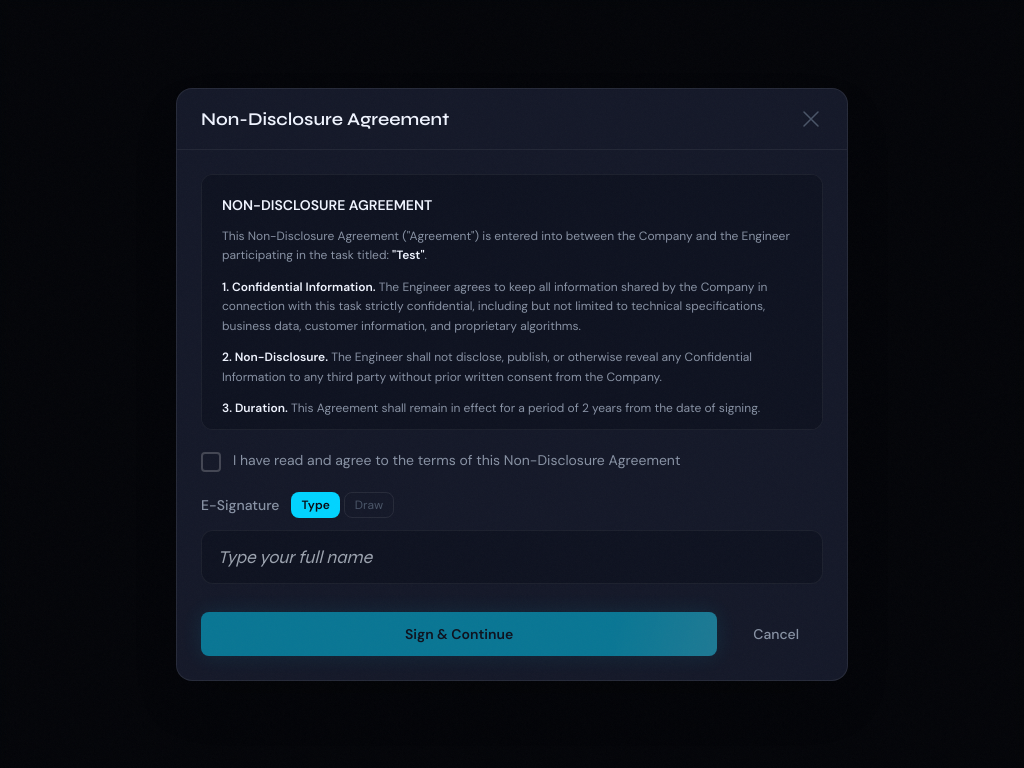
it: NDAModal — signature canvas (touch device support) › switches to draw mode when Draw button is clicked
Click the button "Draw": (369, 504) [344, 492, 394, 518]
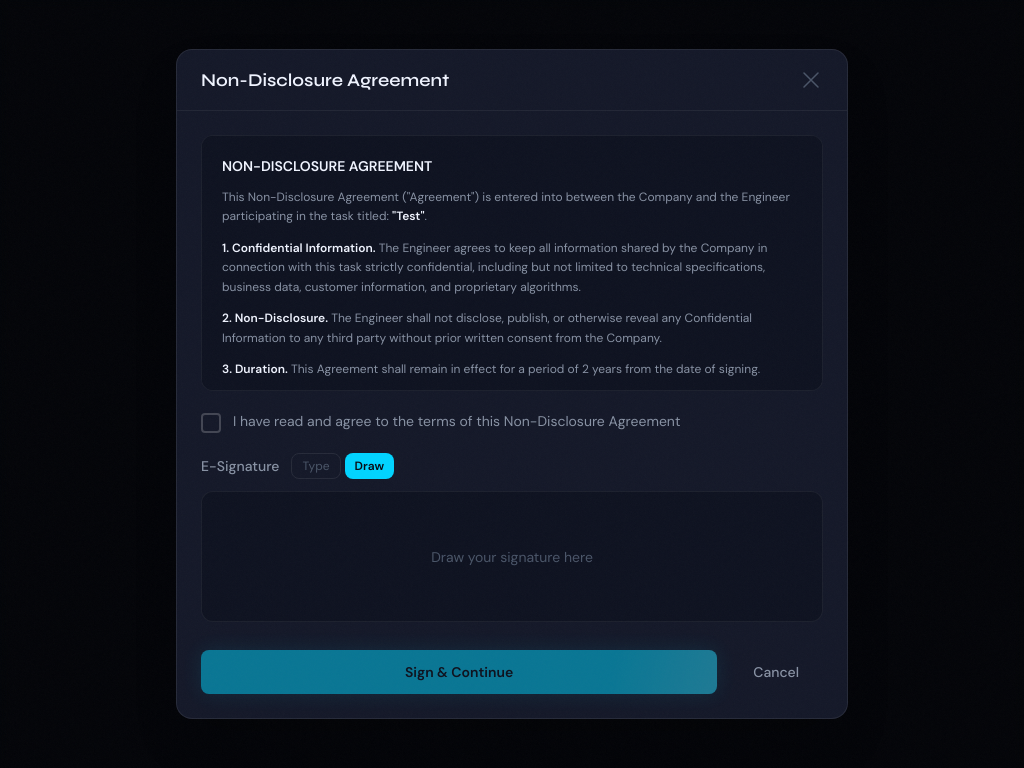
Result: the drawing with test id "nda-signature-canvas" is shown at [201, 491, 823, 622]
Result: the field with test id "nda-signature-input" is gone
